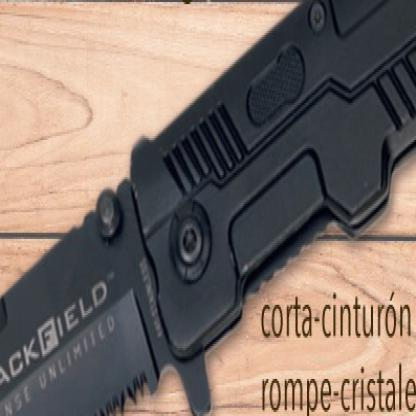knife: (0, 163, 170, 414)
